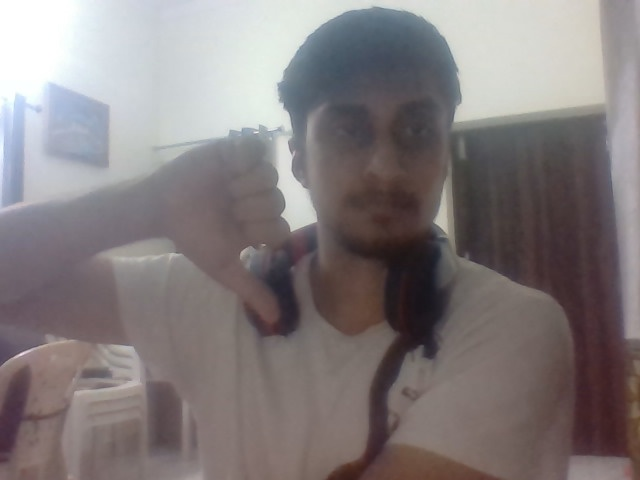ThumbsDown: (158, 136, 291, 324)
